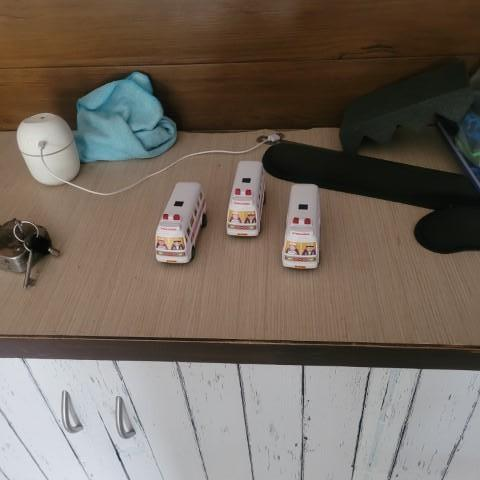ambulance: (155, 180, 210, 266), (277, 180, 324, 270), (224, 156, 270, 240)
